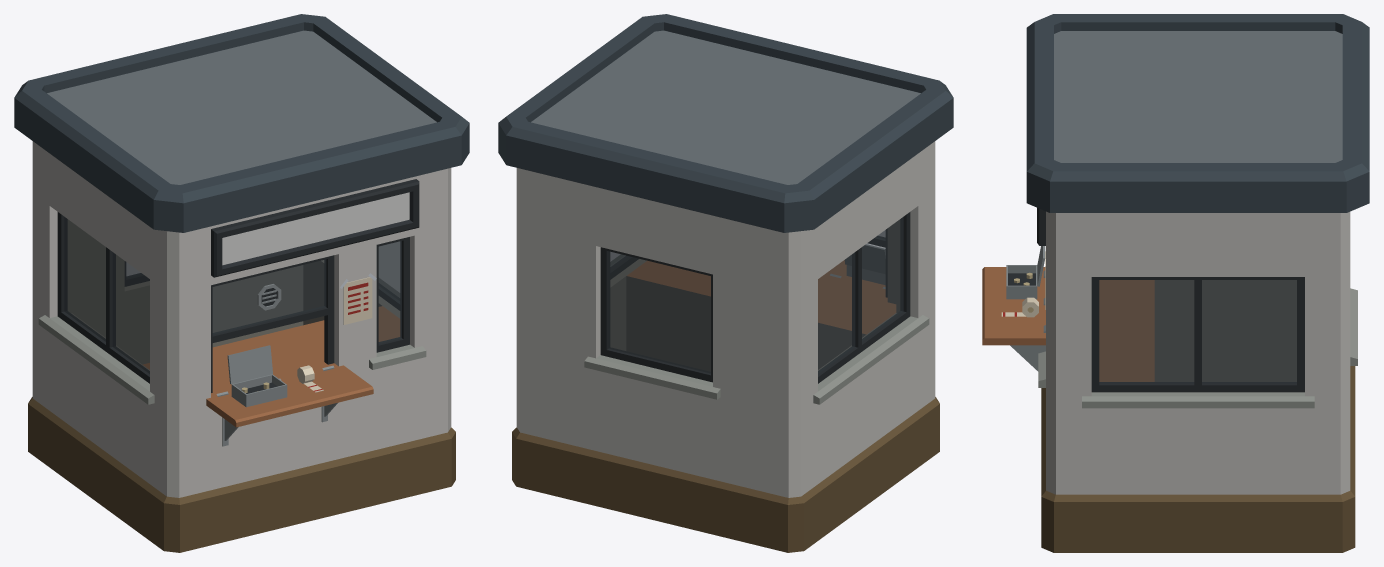
The model's file is ticket-booth-d127f8.glb.
3 renders of one model, left to right at view 1: azimuth 30°, elevation 25°; view 2: azimuth 150°, elevation 25°; view 3: azimuth 270°, elevation 25°, orthographic. The views are drawn at different scales.
Parts seen in each view (by area): view 1: booth, glazing, hatch-flap-mesh, cash-tin-mesh, price-list-mesh; view 2: booth, glazing, cash-tin-mesh; view 3: booth, glazing, hatch-flap-mesh, cash-tin-mesh.
Part boxes in pixels (x1=…): booth: x1=14, y1=14, x2=469, y2=552; glazing: x1=64, y1=217, x2=401, y2=373; hatch-flap-mesh: x1=206, y1=365, x2=373, y2=427; cash-tin-mesh: x1=227, y1=345, x2=287, y2=407; price-list-mesh: x1=340, y1=273, x2=376, y2=324; booth: x1=498, y1=14, x2=953, y2=552; glazing: x1=608, y1=217, x2=903, y2=373; cash-tin-mesh: x1=844, y1=244, x2=885, y2=284; booth: x1=1010, y1=14, x2=1369, y2=552; glazing: x1=1099, y1=280, x2=1296, y2=383; hatch-flap-mesh: x1=982, y1=267, x2=1045, y2=345; cash-tin-mesh: x1=1006, y1=246, x2=1045, y2=299.
Bounding box in the file's own units: 2 × 2.19 × 2.
